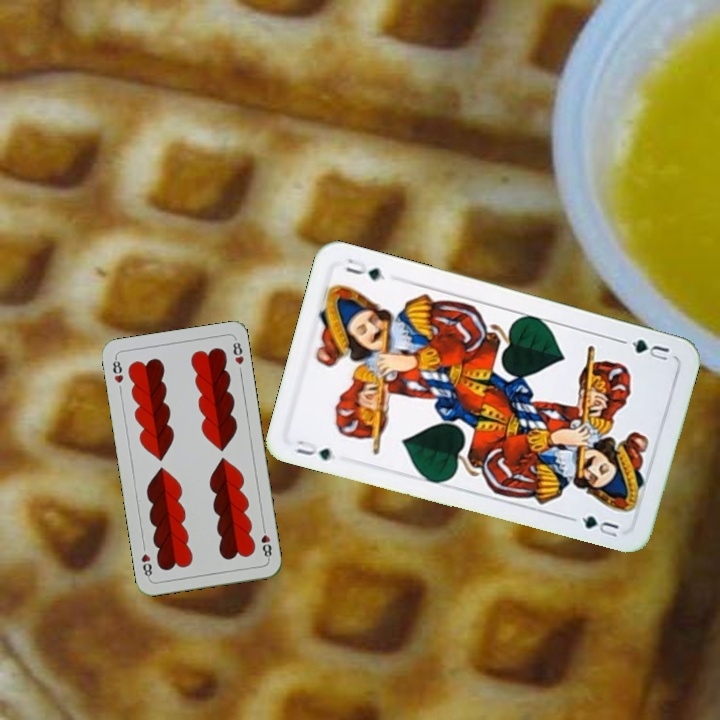GU: (627, 335, 672, 364), (291, 436, 338, 463)
H8: (257, 522, 274, 562), (109, 354, 126, 386)
